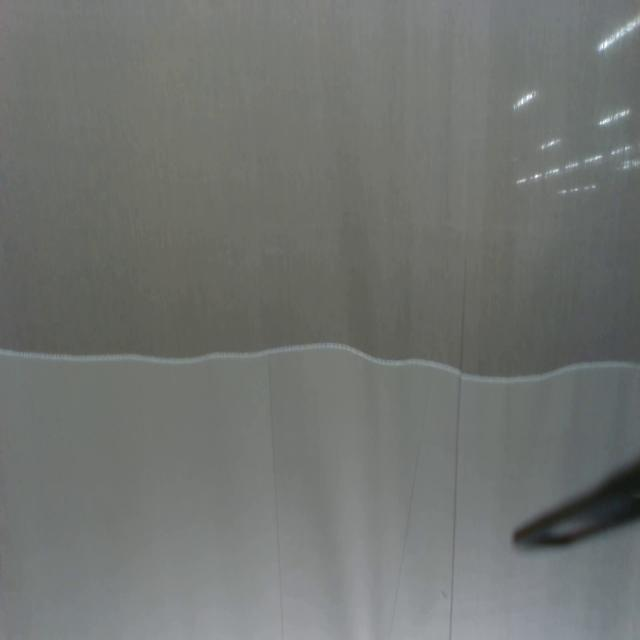crease: (389, 397, 431, 639), (447, 251, 472, 640), (266, 350, 288, 640)
hole: (441, 589, 449, 604)
